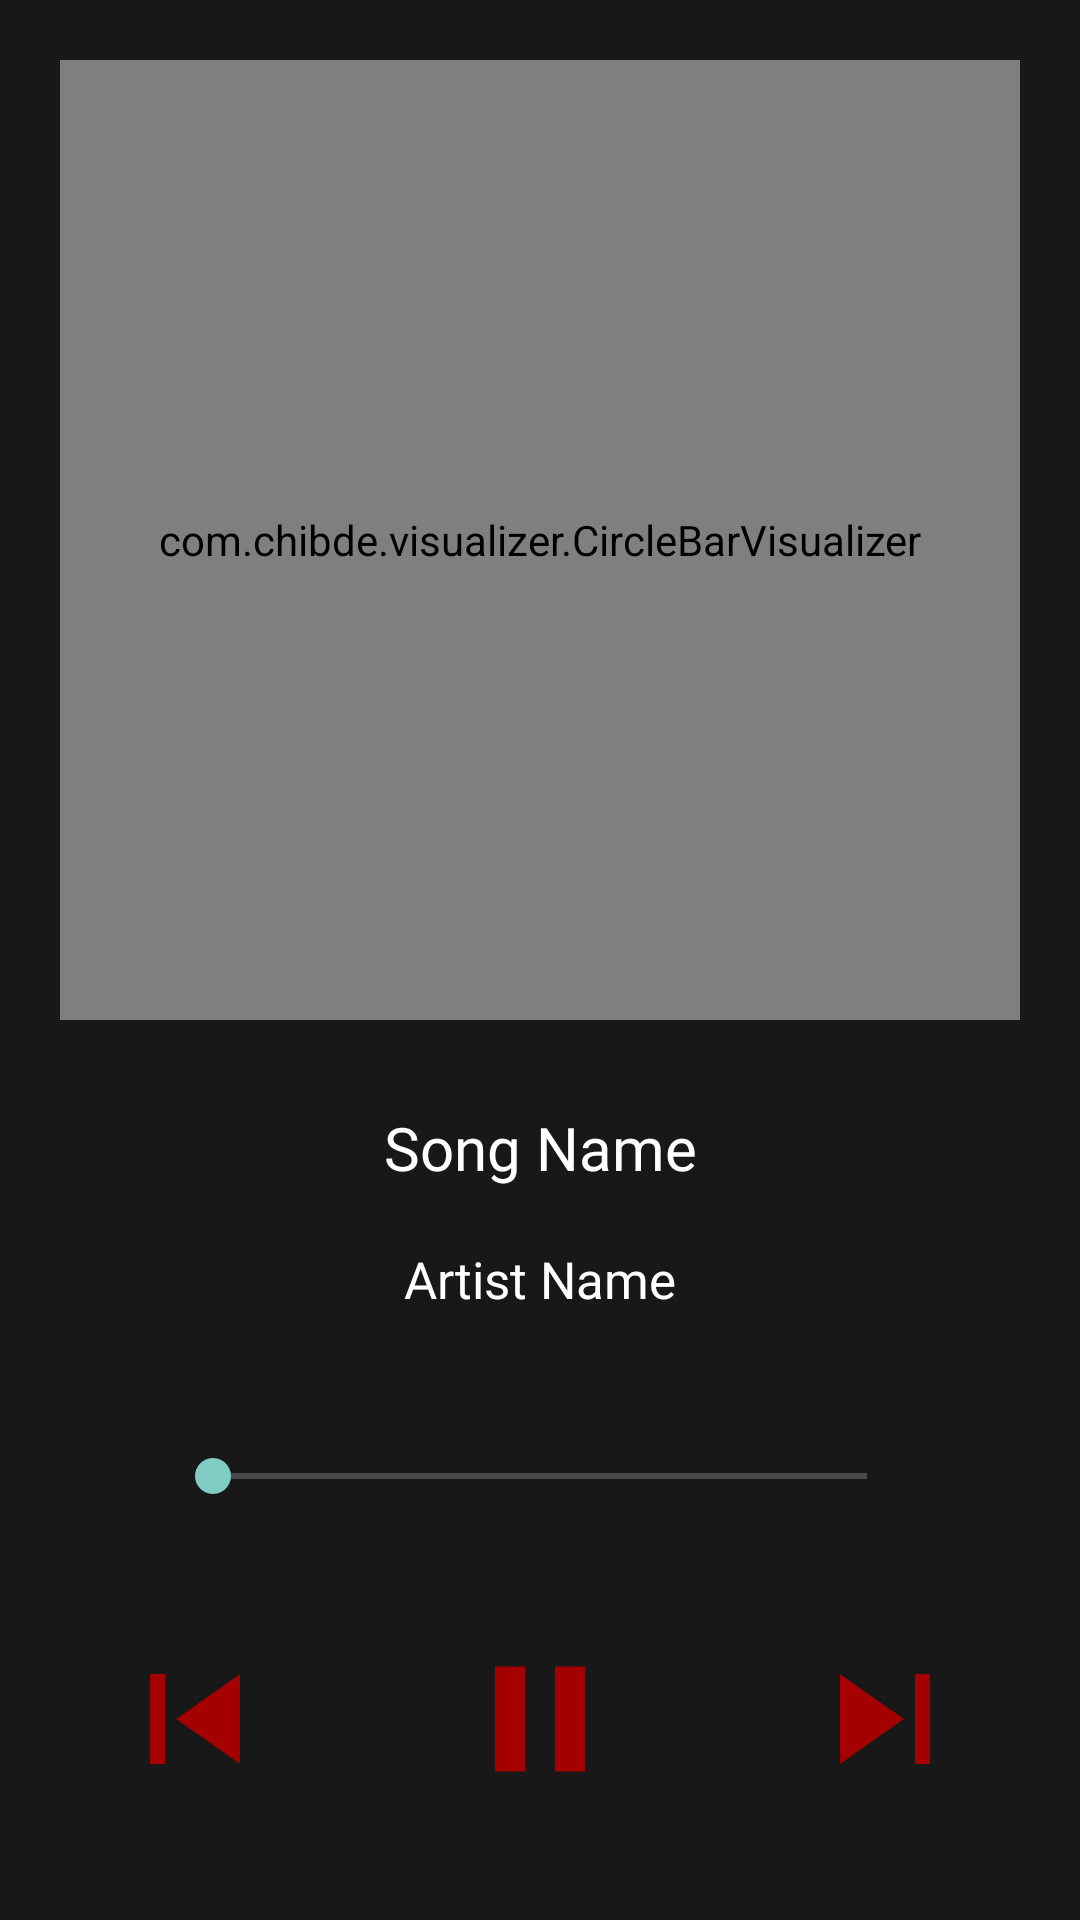

Where to tap for icons on this 1080×1920 app screen, as point (x, y):
next: point (885, 1719)
pause: point (540, 1719)
previous: point (195, 1719)
